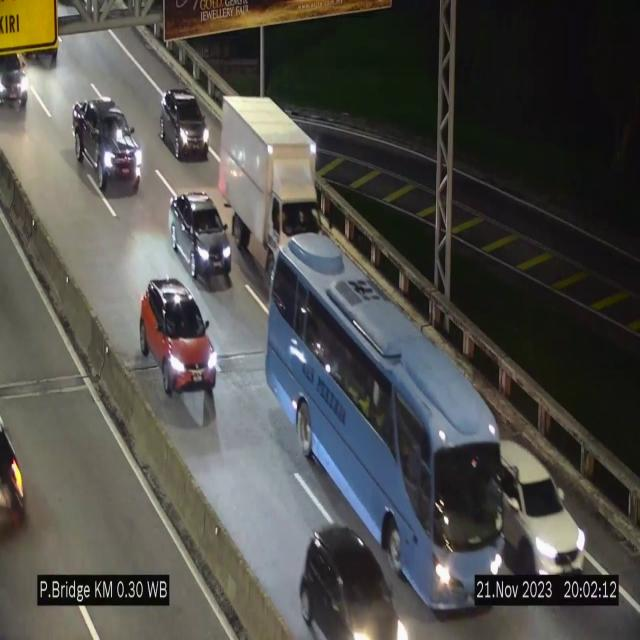Bus: (264, 235, 507, 618)
Car: (300, 524, 408, 640), (497, 438, 587, 576), (136, 277, 219, 395), (69, 96, 143, 194), (168, 185, 230, 282), (159, 88, 209, 160)
Truck: (217, 98, 345, 296)
